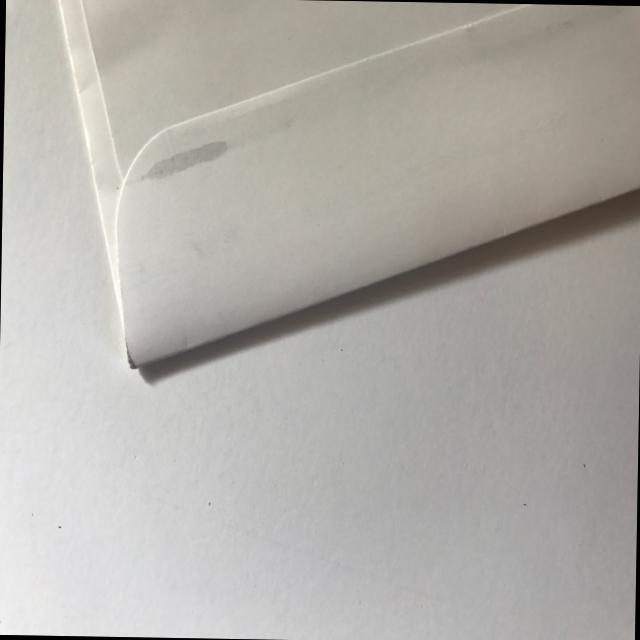Paper: (50, 0, 640, 377)
